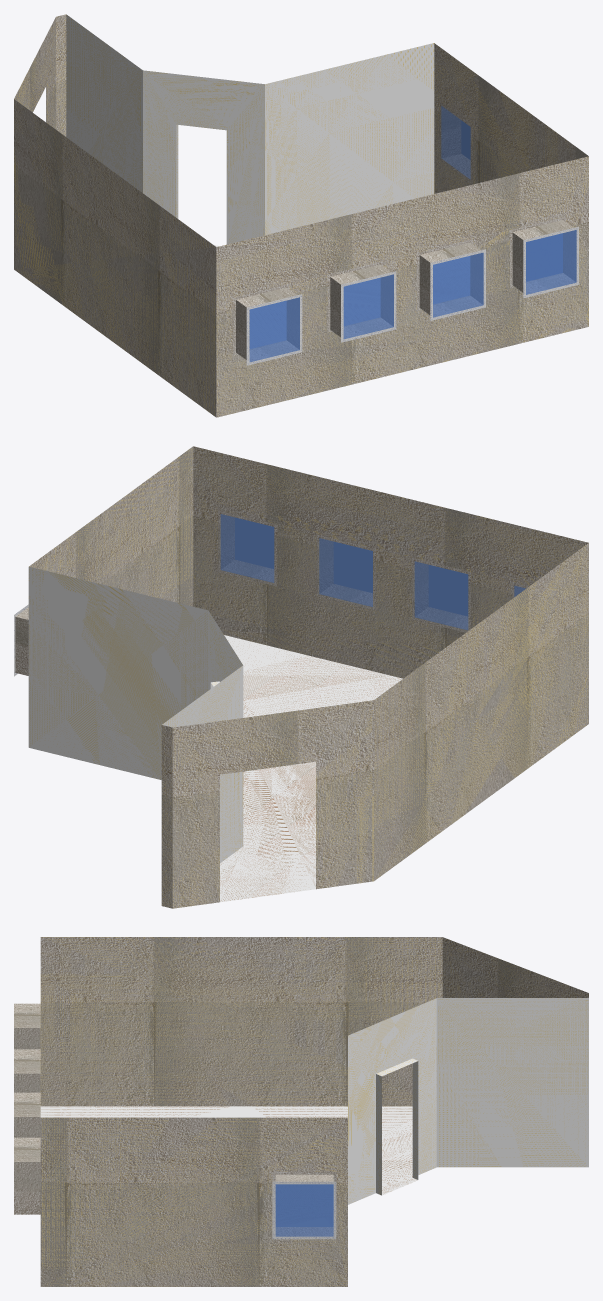
Rendered from LAB002.obj.
3 renders of one model, top to bottom at view 1: azimuth 30°, elevation 25°; view 2: azimuth 150°, elevation 25°; view 3: azimuth 270°, elevation 25°, orthographic. The views are drawn at different scales.
Visible parts, largest first — view 1: Mesh21 LAB002 Model, Mesh5 Group2 LAB002 Model, Mesh13 Group4 LAB002 Model, Mesh9 Group3 LAB002 Model, Mesh17 Group5 LAB002 Model, Mesh1 Group1 LAB002 Model; view 2: Mesh21 LAB002 Model, Mesh9 Group3 LAB002 Model, Mesh17 Group5 LAB002 Model, Mesh13 Group4 LAB002 Model, Mesh1 Group1 LAB002 Model; view 3: Mesh21 LAB002 Model, Mesh1 Group1 LAB002 Model, Mesh9 Group3 LAB002 Model, Mesh5 Group2 LAB002 Model, Mesh17 Group5 LAB002 Model, Mesh13 Group4 LAB002 Model.
Part boxes in pixels (x1,y1,x2,y2): Mesh21 LAB002 Model: (14, 14, 588, 417); Mesh5 Group2 LAB002 Model: (233, 284, 302, 365); Mesh13 Group4 LAB002 Model: (327, 261, 396, 342); Mesh9 Group3 LAB002 Model: (510, 217, 578, 298); Mesh17 Group5 LAB002 Model: (417, 239, 485, 320); Mesh1 Group1 LAB002 Model: (440, 102, 472, 183); Mesh21 LAB002 Model: (28, 446, 588, 908); Mesh9 Group3 LAB002 Model: (218, 510, 277, 586); Mesh17 Group5 LAB002 Model: (317, 534, 375, 610); Mesh13 Group4 LAB002 Model: (412, 558, 470, 632); Mesh1 Group1 LAB002 Model: (14, 604, 28, 676); Mesh21 LAB002 Model: (40, 937, 588, 1286); Mesh1 Group1 LAB002 Model: (272, 1172, 336, 1239); Mesh9 Group3 LAB002 Model: (14, 1137, 40, 1214); Mesh5 Group2 LAB002 Model: (14, 1003, 40, 1049); Mesh17 Group5 LAB002 Model: (14, 1092, 40, 1137); Mesh13 Group4 LAB002 Model: (14, 1049, 40, 1092).
Bounding box in the file's own units: 7.16 × 2.98 × 9.15.
6 materials, 2 textured.
